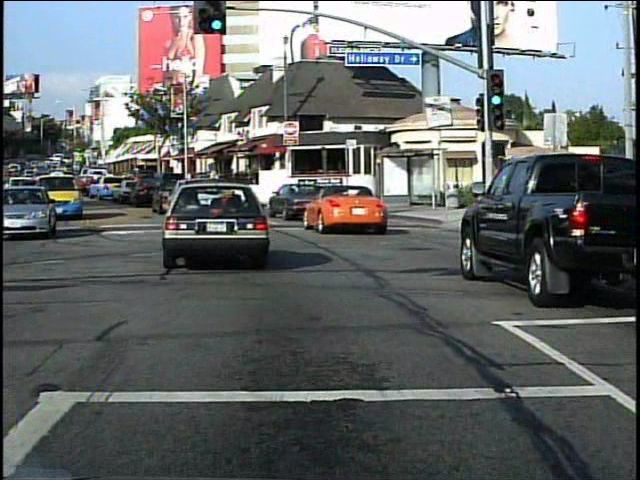person: (577, 187, 600, 250)
